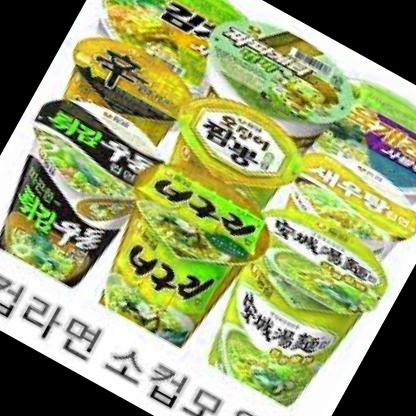Ramen: (74, 141, 283, 367), (195, 200, 405, 416), (0, 81, 178, 304), (184, 0, 371, 162), (36, 20, 205, 178), (164, 76, 316, 214), (272, 133, 416, 275), (80, 0, 254, 101), (301, 63, 416, 213)
